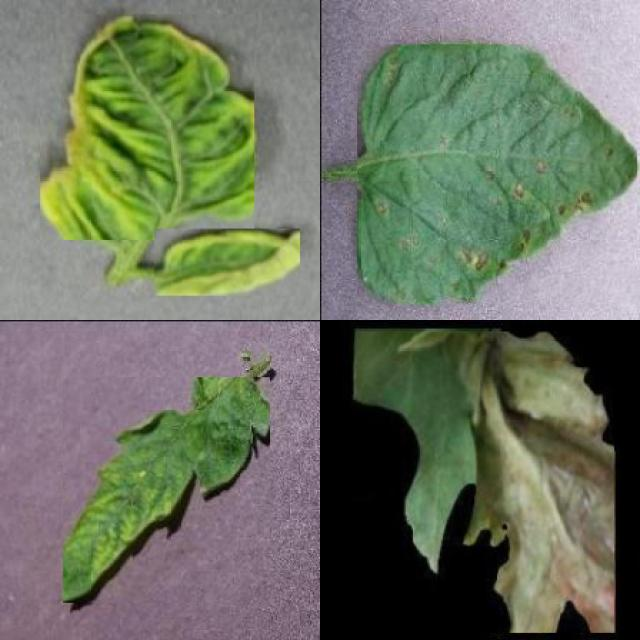Late Blight: (354, 331, 614, 633)
Mosaic Virus: (63, 377, 270, 603)
Septoria: (357, 45, 637, 305)
Yellow Leaf Curl Virus: (41, 14, 255, 240), (154, 228, 300, 296)
